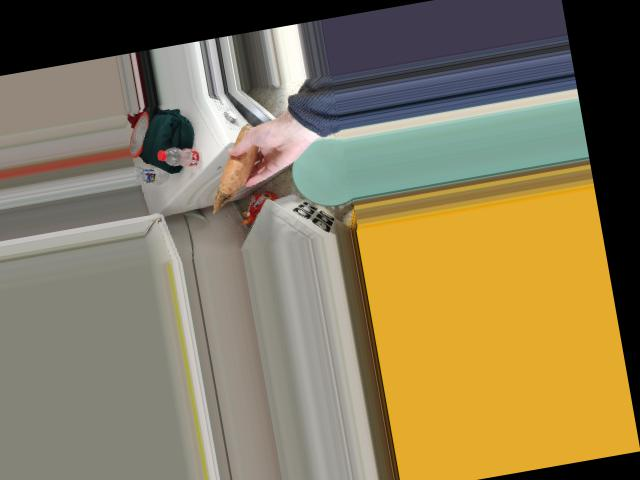sweet_potato: (211, 137, 262, 190)
